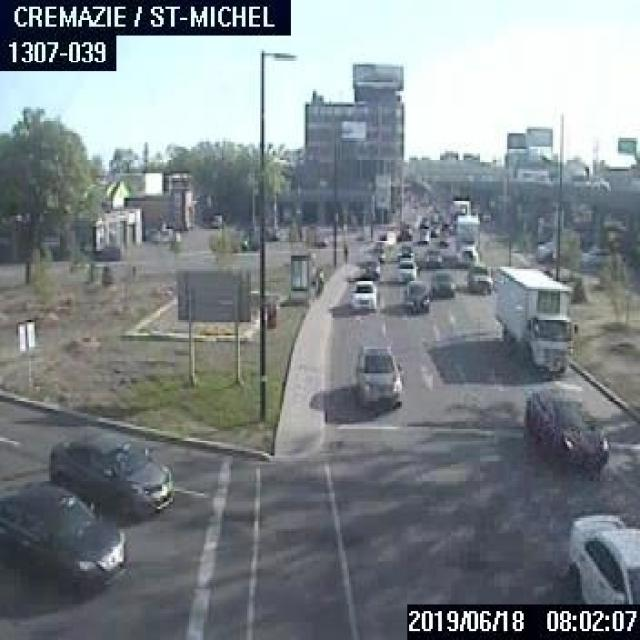pedestrian: (316, 266, 323, 294), (342, 240, 347, 268)
vehicle: (0, 477, 127, 591), (48, 426, 173, 518), (494, 263, 576, 371), (520, 382, 609, 469), (564, 509, 638, 600), (353, 344, 402, 406), (452, 214, 480, 263), (401, 278, 430, 312), (349, 277, 376, 309), (466, 262, 492, 294), (430, 269, 454, 297), (393, 256, 417, 282), (150, 226, 178, 242), (422, 246, 442, 267), (360, 253, 379, 275), (98, 245, 120, 259), (396, 242, 413, 258), (373, 240, 385, 260), (414, 227, 428, 243), (396, 226, 412, 240), (437, 232, 449, 245)
